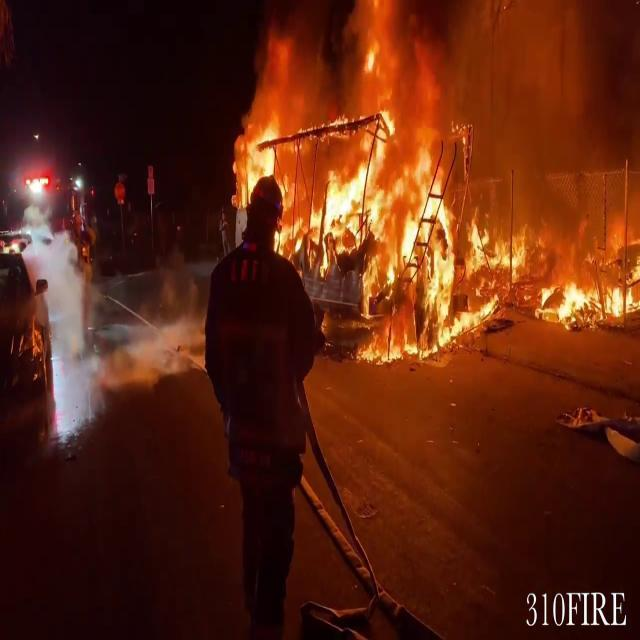Fire: (281, 80, 515, 358), (541, 238, 640, 327)
